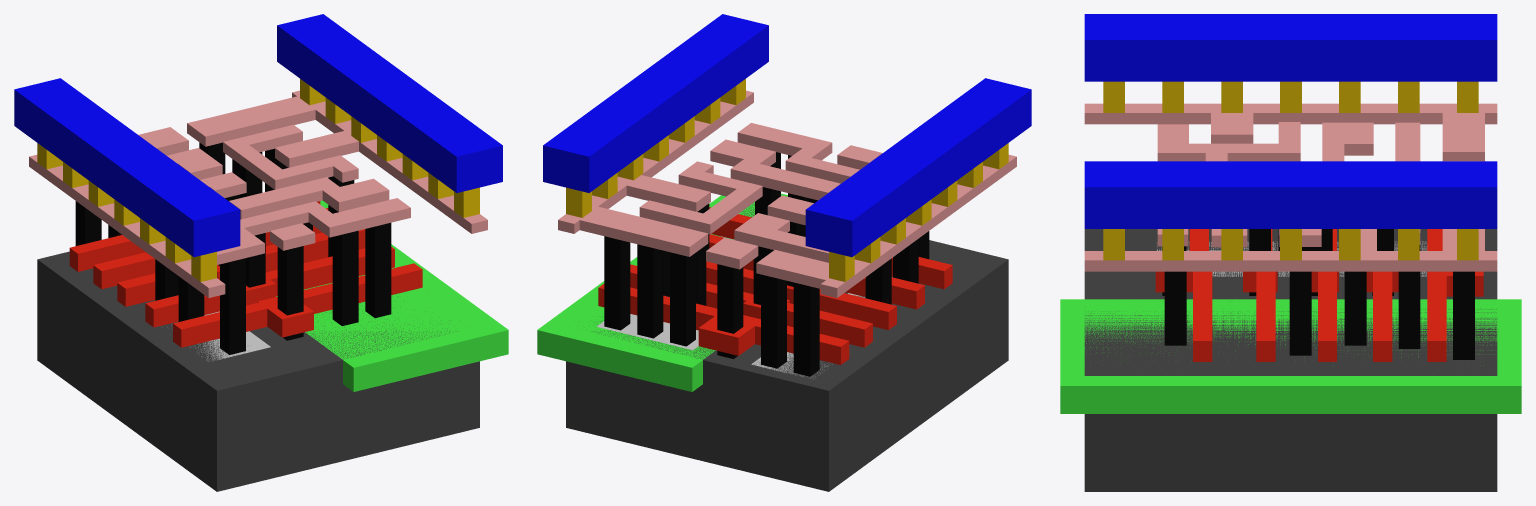
File: sky130_fd_sc_hd__a311oi_1.obj
The picture shows the model from 3 angles, left to right: view 1: azimuth 30°, elevation 25°; view 2: azimuth 150°, elevation 25°; view 3: azimuth 270°, elevation 25°; orthographic projection. The views are drawn at different scales.
Visible parts, largest first — view 1: subs, metal1, li, licon, nwell, poly, mcon, diff; view 2: subs, metal1, li, licon, poly, nwell, mcon, tap; view 3: metal1, subs, nwell, li, poly, licon, mcon.
Part boxes in pixels (x1,y1,x2,y2): subs: (37,251,479,491); metal1: (14,14,502,257); li: (29,90,487,297); licon: (75,142,391,354); nwell: (276,200,508,391); poly: (69,201,422,347); mcon: (37,79,479,281); diff: (190,311,270,361); subs: (566,203,1008,491); metal1: (543,14,1031,257); li: (558,90,1016,297); licon: (604,152,929,376); poly: (598,207,952,364); nwell: (537,193,787,391); mcon: (566,79,1008,281); tap: (596,236,734,350); metal1: (1084,14,1497,228); subs: (1084,229,1497,491); nwell: (1060,299,1521,413); li: (1084,103,1497,271); poly: (1155,229,1483,361); licon: (1161,229,1474,359); mcon: (1103,81,1478,260).
Size of the model in its own units: 3.2 by 2.74 by 3.6.
